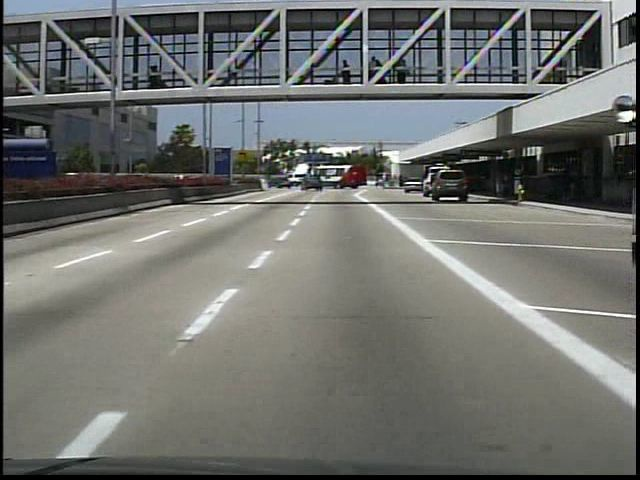person: (336, 56, 356, 88), (147, 62, 167, 92), (491, 168, 509, 200)
